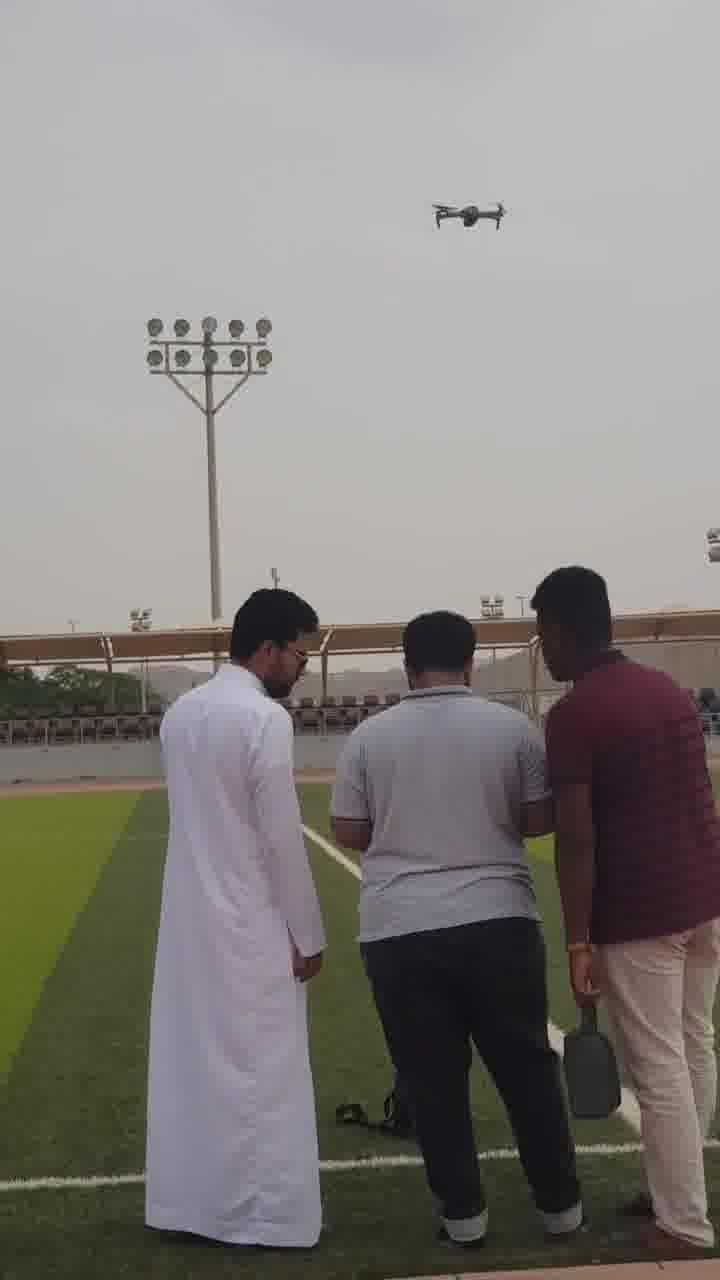drone: (424, 186, 513, 238)
